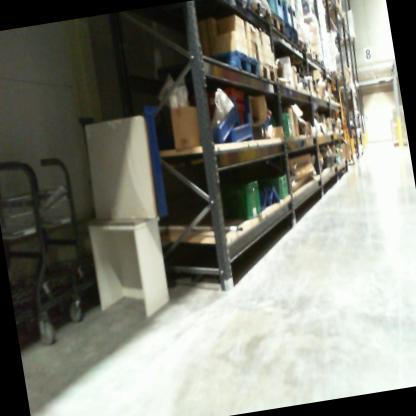pallet: (195, 48, 261, 79), (255, 57, 280, 86), (249, 0, 274, 24), (283, 15, 299, 46), (266, 9, 284, 35)
